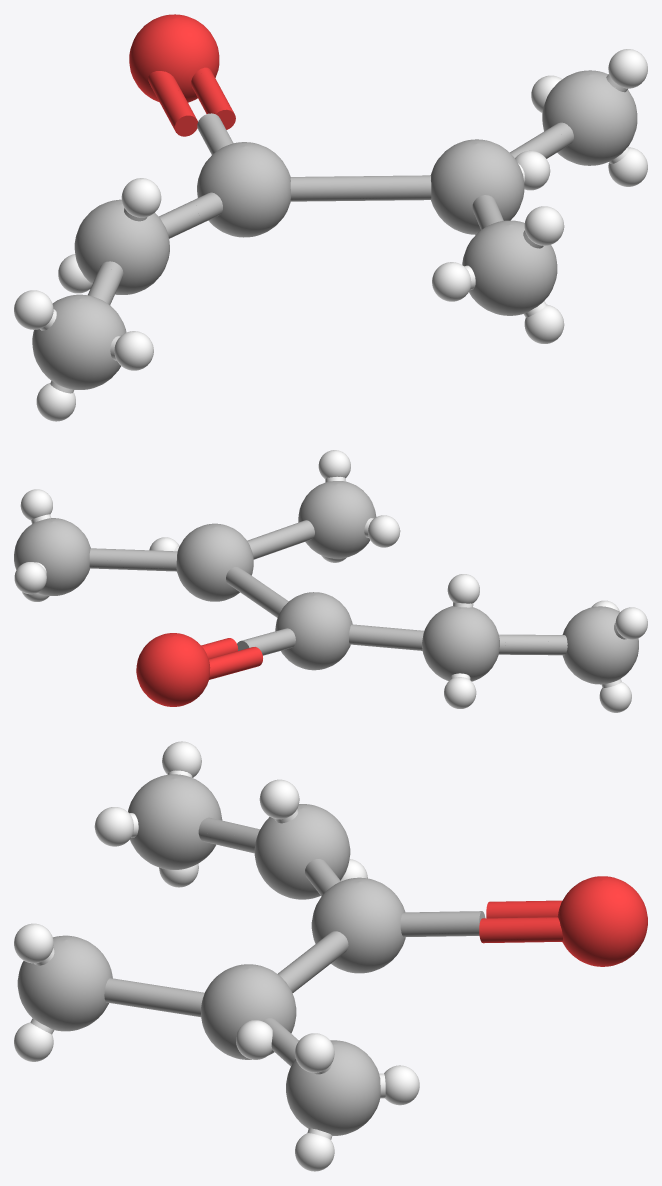
Rendered from cetona.glb.
3 renders of one model, top to bottom at view 1: azimuth 30°, elevation 25°; view 2: azimuth 150°, elevation 25°; view 3: azimuth 270°, elevation 25°, orthographic. The views are drawn at different scales.
Visible parts, largest first — view 1: Carbon_ball (×7), Hydrogen_ball (×12), Oxygen_ball (×2); view 2: Carbon_ball (×7), Hydrogen_ball (×8), Oxygen_ball; view 3: Carbon_ball (×6), Hydrogen_ball (×10), Oxygen_ball.
Boxes of the visible parts, left/top/right/bottom form: Carbon_ball (×7): left=32, top=70, right=637, bottom=389; Hydrogen_ball (×12): left=14, top=49, right=647, bottom=421; Oxygen_ball (×2): left=129, top=14, right=219, bottom=102; Carbon_ball (×7): left=14, top=481, right=638, bottom=684; Hydrogen_ball (×8): left=14, top=450, right=647, bottom=712; Oxygen_ball: left=136, top=633, right=210, bottom=706; Carbon_ball (×6): left=17, top=774, right=405, bottom=1135; Hydrogen_ball (×10): left=14, top=741, right=419, bottom=1171; Oxygen_ball: left=557, top=876, right=647, bottom=966.
Size of the model in its own units: 12.93 by 3.02 by 10.19.
